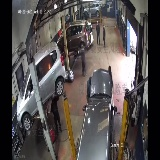fire: (44, 60, 53, 74)
